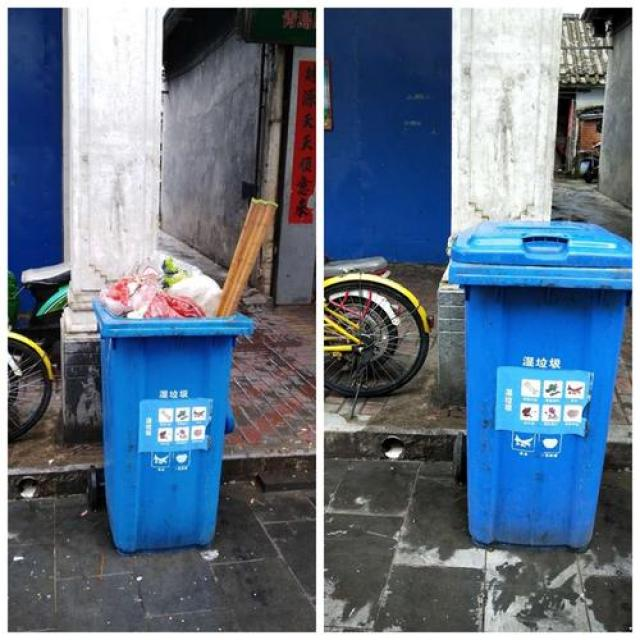garbage_bin: (445, 222, 630, 549)
overflow: (92, 197, 278, 552)
